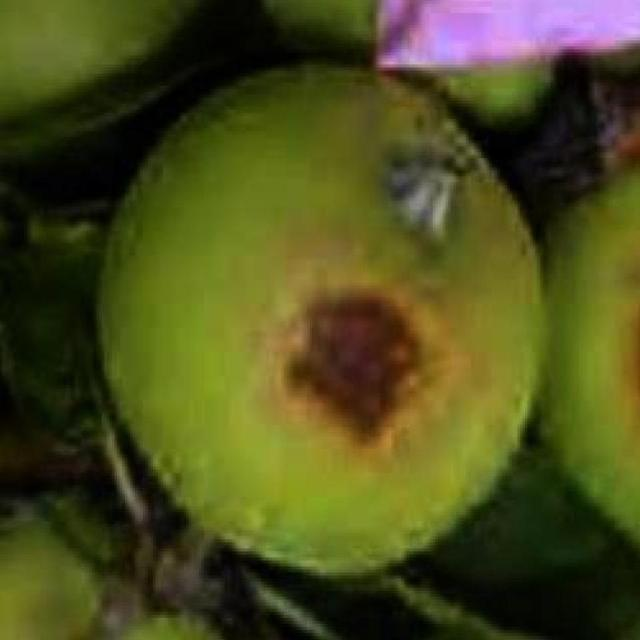Sunscald Fruit: (172, 169, 307, 302)
